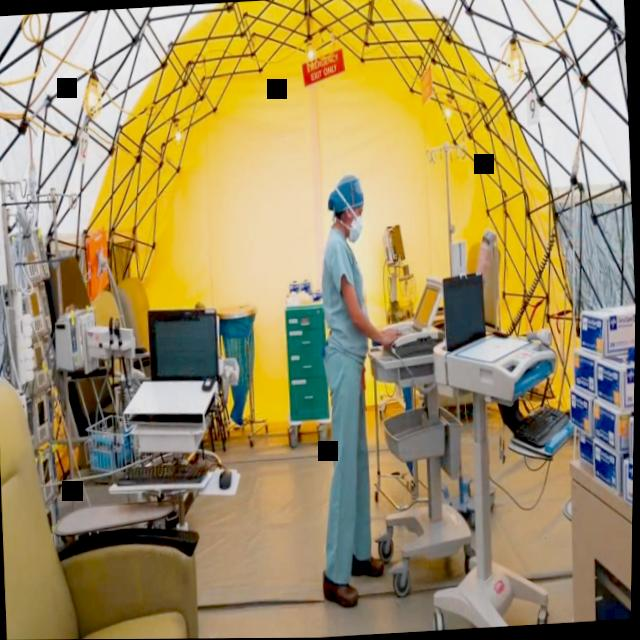Mask: (345, 203, 366, 244)
